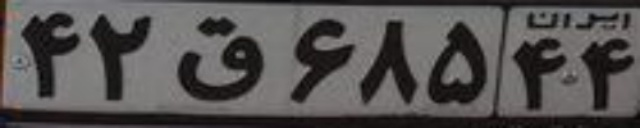2: (88, 12, 154, 101)
4: (20, 10, 81, 98), (512, 37, 569, 111), (578, 38, 636, 110)
5: (428, 21, 486, 104)
6: (290, 18, 353, 104)
8: (360, 16, 416, 104)
ghaf: (176, 16, 262, 101)
